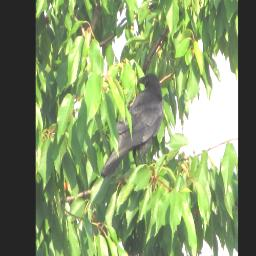Crow: (99, 72, 164, 178)
